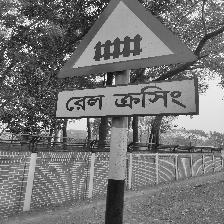Rail-crossing: (55, 0, 202, 121)
